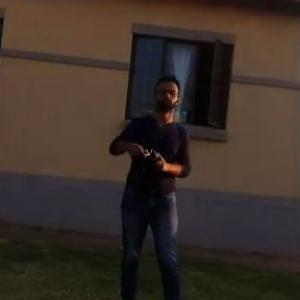follow: (102, 67, 198, 299)
